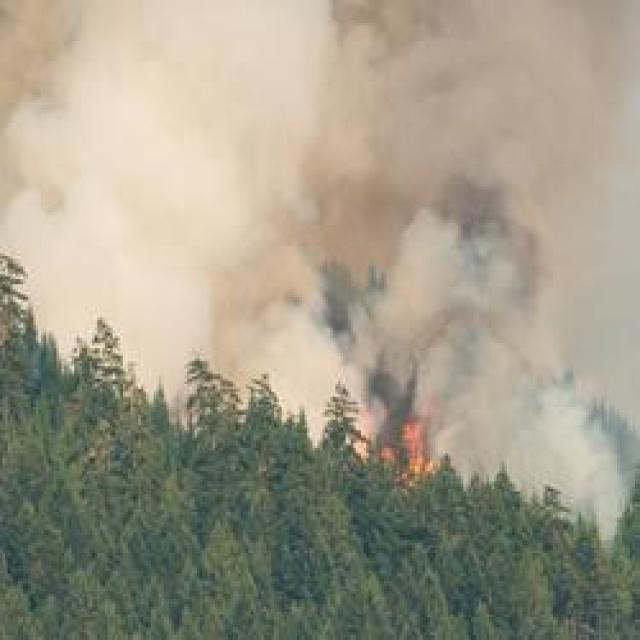Fire: (355, 416, 432, 483)
Smoke: (4, 3, 640, 255), (41, 261, 432, 396), (440, 260, 628, 531)
